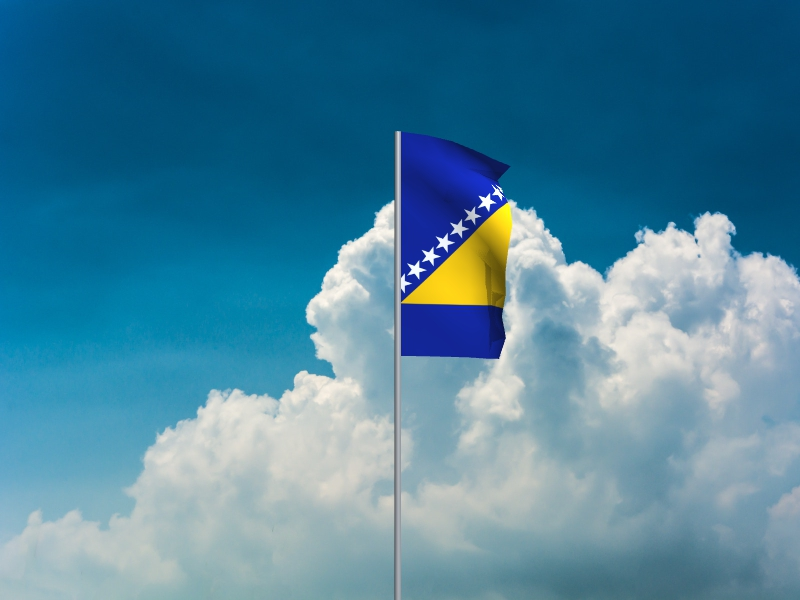ba: (402, 133, 514, 361)
